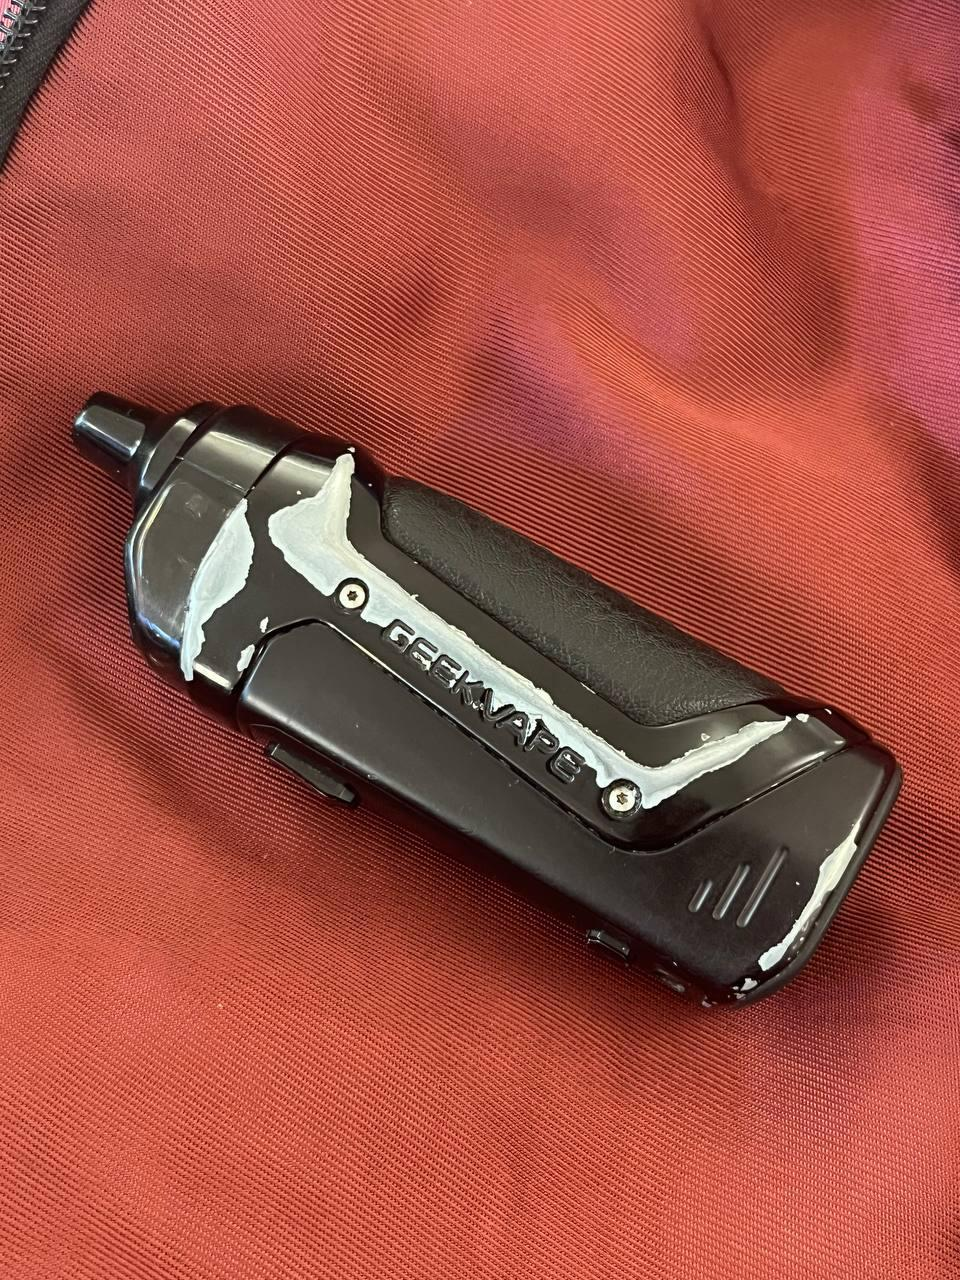Vape: (76, 395, 899, 1006)
